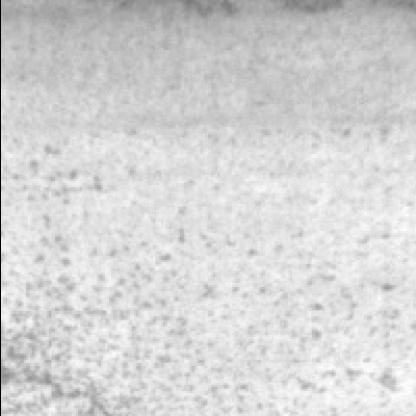pitted_surface: (4, 156, 404, 416)
